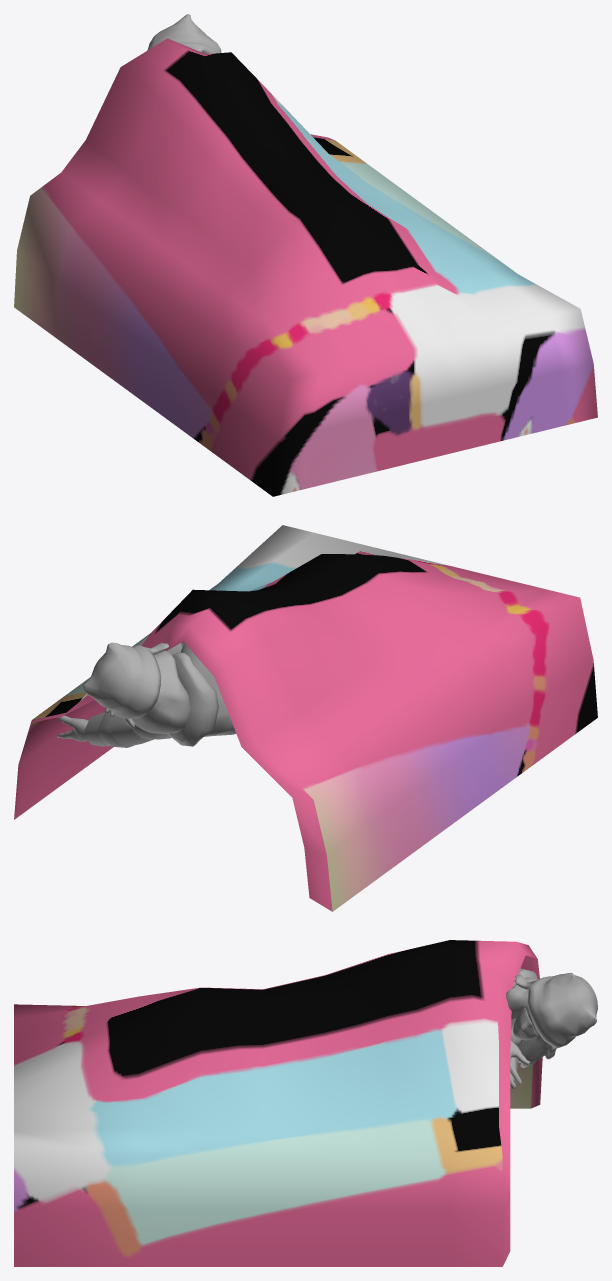
Rendered from Child_Bed.fbx.
3 views of the same model, one above another, from view 1: azimuth 30°, elevation 25°; view 2: azimuth 150°, elevation 25°; view 3: azimuth 270°, elevation 25° (orthographic). The views are drawn at different scales.
Visible parts, largest first — view 1: Blanket, Child1; view 2: Blanket, Child1; view 3: Blanket, Child1.
Part boxes in pixels (x1,y1,x2,y2): Blanket: (14,38,597,496); Child1: (147,14,221,54); Blanket: (14,525,597,911); Child1: (57,641,236,747); Blanket: (14,940,542,1266); Child1: (506,968,597,1092).
Size of the model in its own units: 140 by 99.35 by 218.
